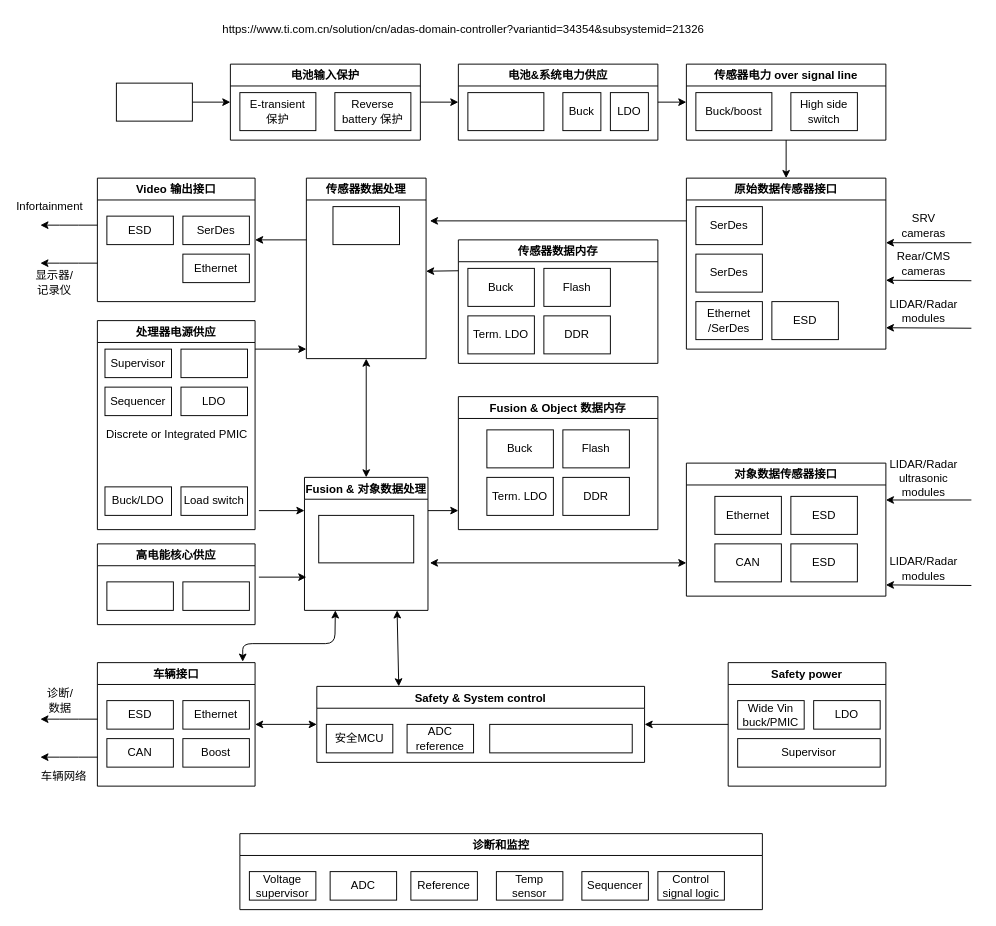
Image size: 996x926. Some labels were removed from this diagram. Here are the shapes that lost their labels. From the top down, the centre of each, then its label:
At point (153, 101): "电池 Battery".
At point (505, 111): "Wide Vin buck 控制器".
At point (365, 225): "应用处理器".
At point (213, 363): "Bucks".
At point (366, 538): "传感器fusion 和对象识别处理器".
At point (139, 595): "多阶段控制器".
At point (215, 595): "电能stages".
At point (560, 738): "Signal level translation & buffering".
